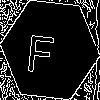F: (25, 25, 57, 74)
